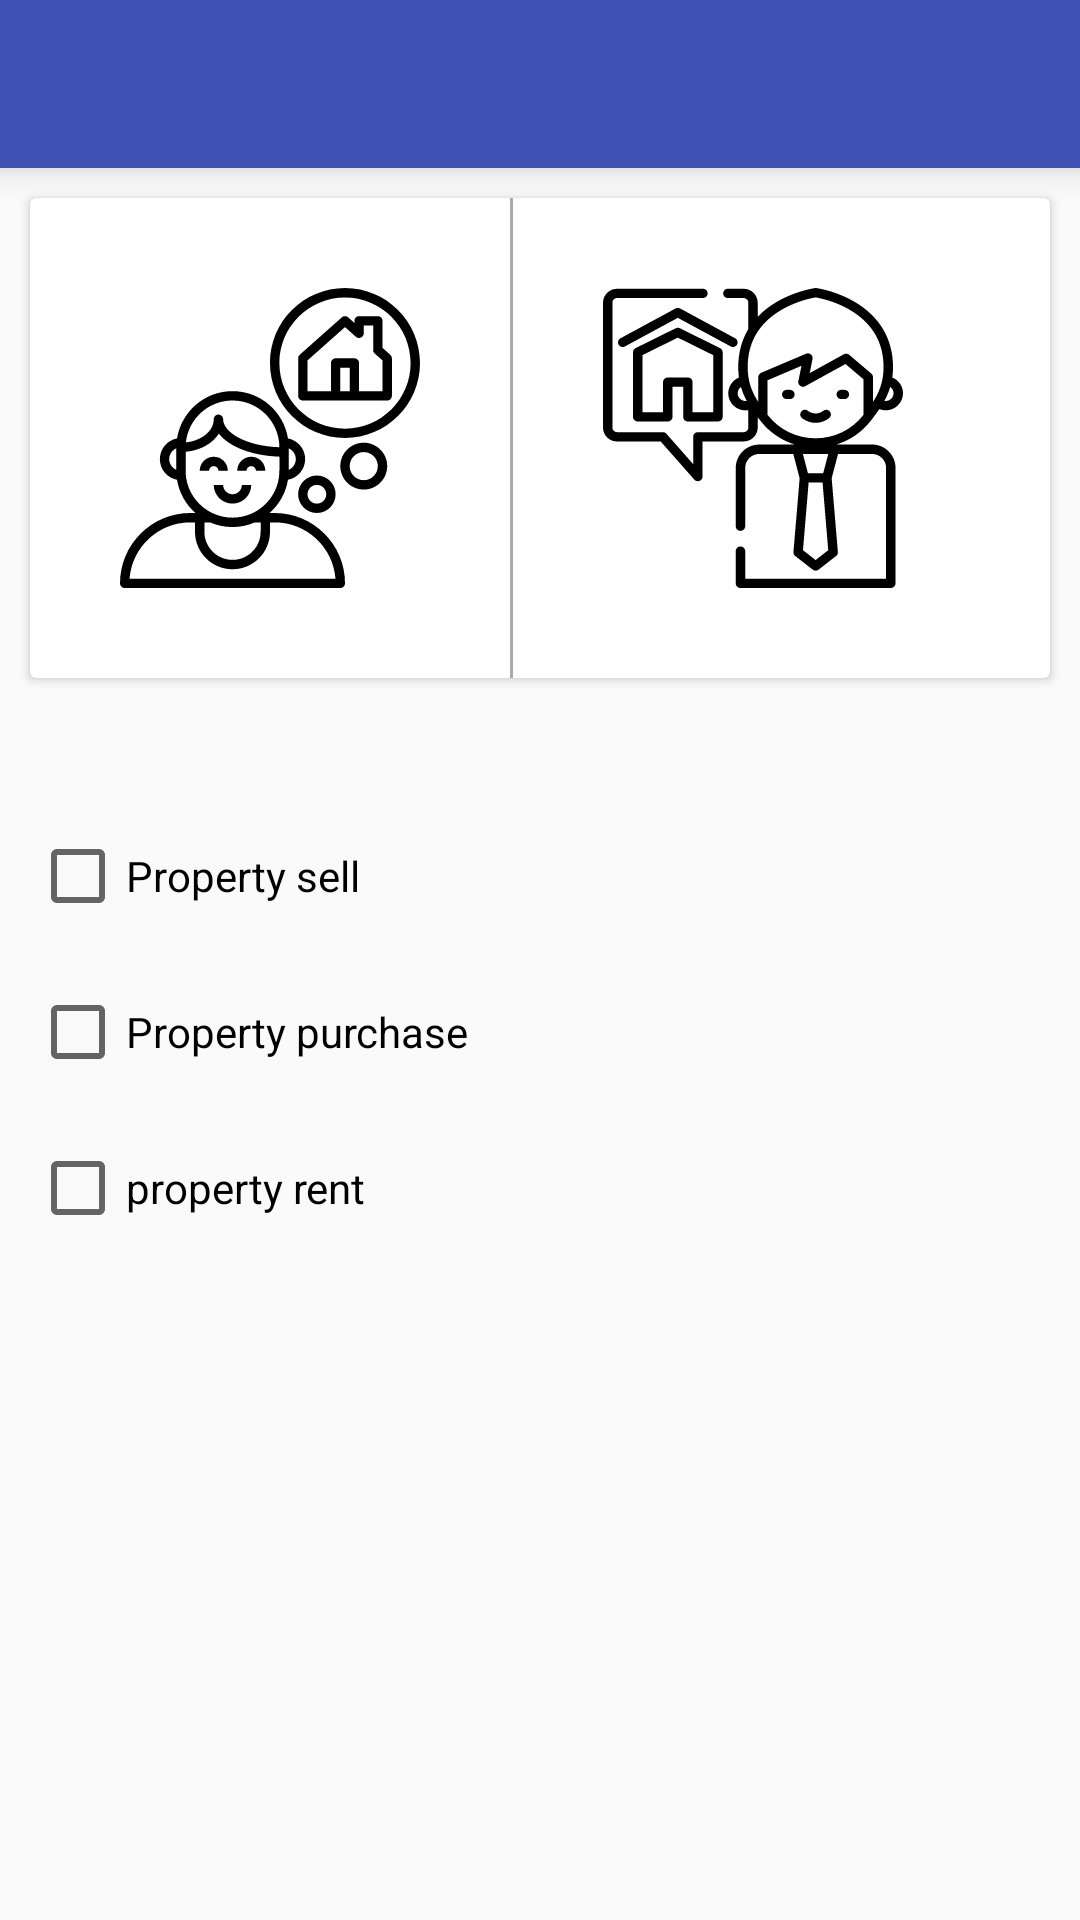

Point at icon controls on the screen. Image size 1080px×1920px, points as [x,y].
agent: [753,438]
buyer: [270,438]
